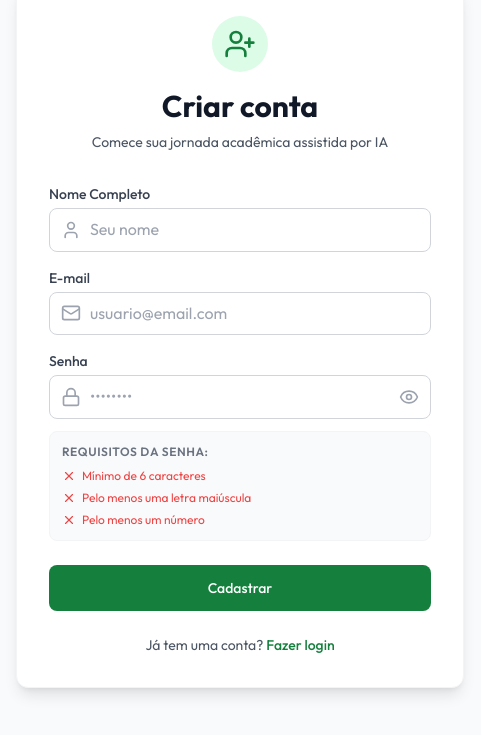
Register submission flow › shows the backend error message when the email is already registered
In the field labelled "Nome Completo": (240, 230) [49,208,431,252], type "Ana Silva"
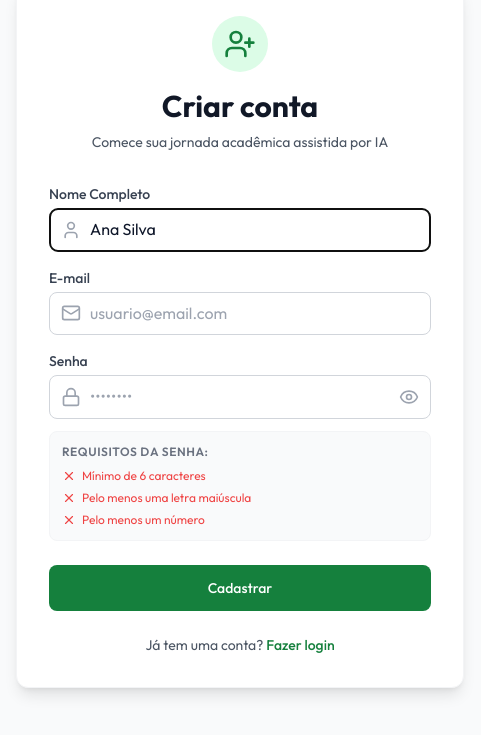
In the field labelled "E-mail": (240, 313) [49,292,431,335], type "ana@a.com"
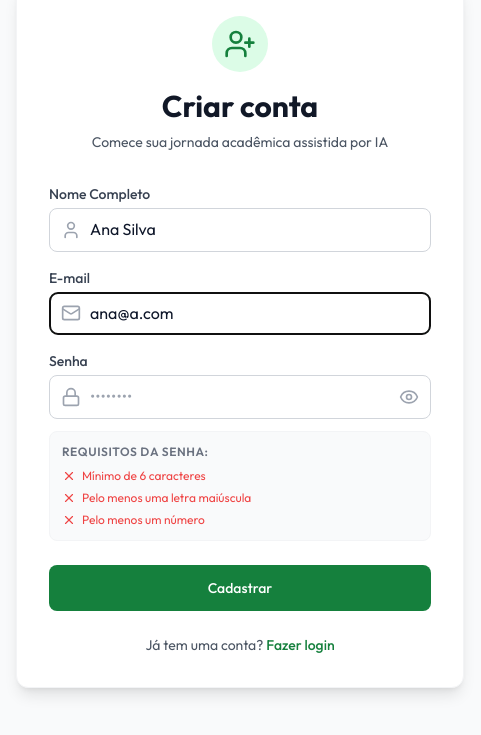
In the password field labelled "Senha": (240, 397) [49,375,431,419], type "Abcdef1"
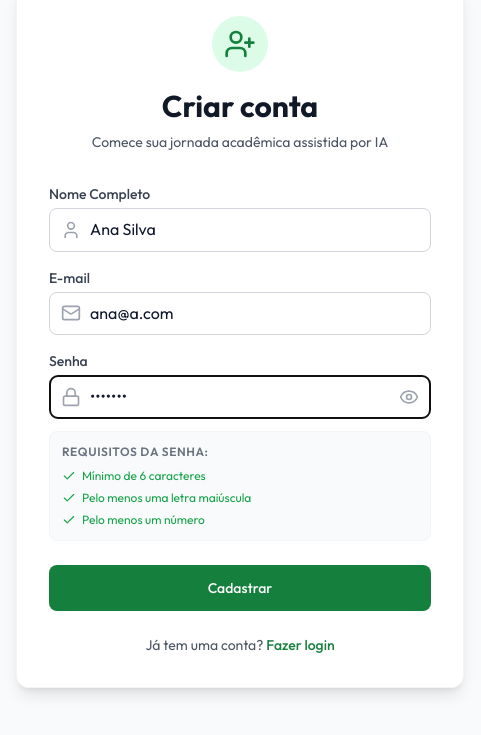
Click the button "Cadastrar": (240, 588) [49,565,431,611]
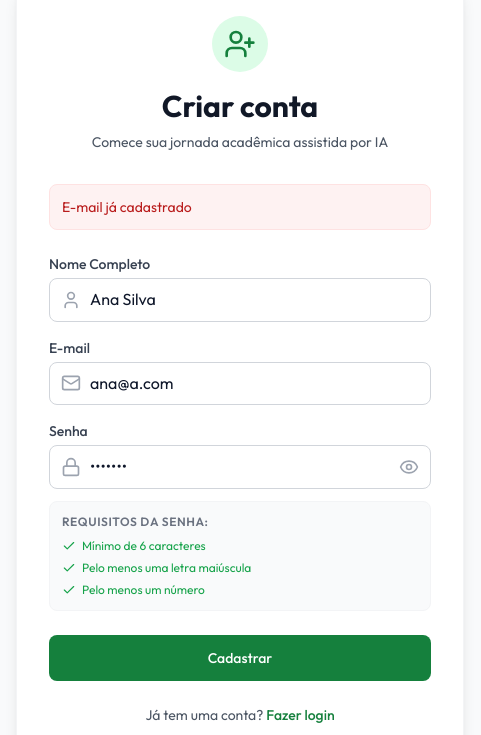
Expected: the text "E-mail já cadastrado" is shown, [49,184,431,230]
